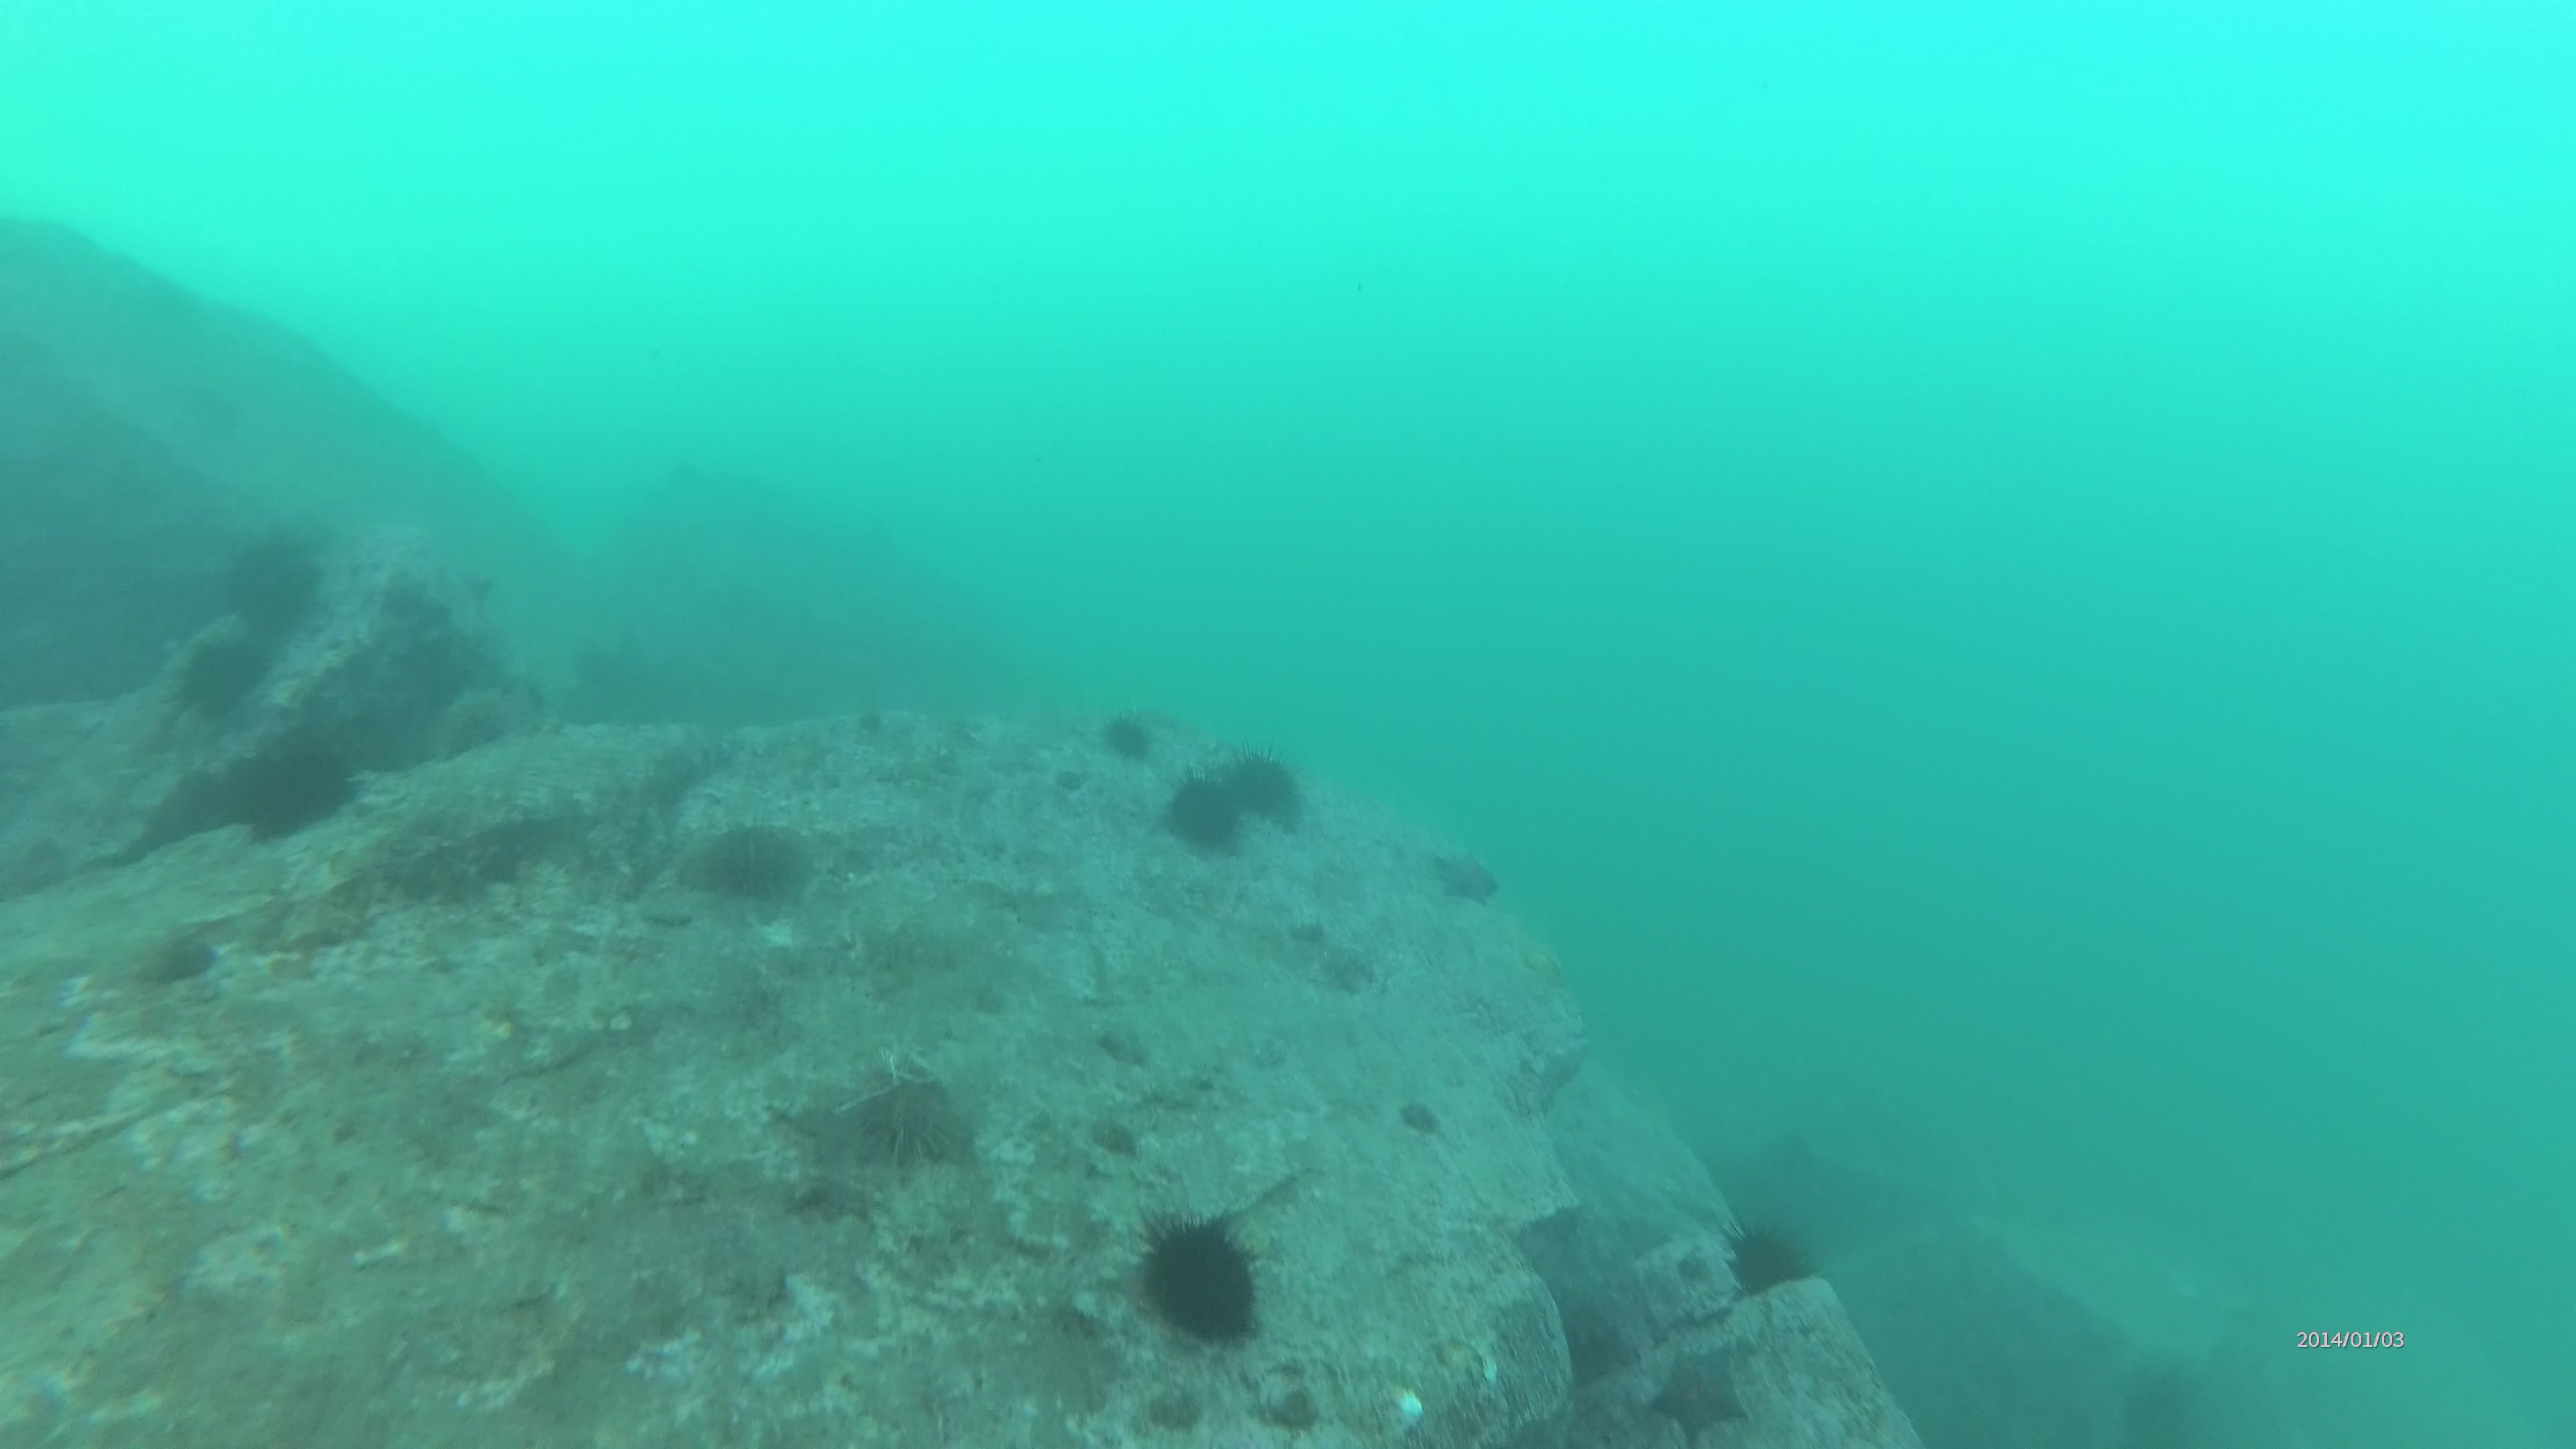echinus: (1109, 1196, 1277, 1359), (234, 741, 366, 844), (699, 812, 805, 922), (855, 1067, 966, 1164), (1219, 727, 1309, 837), (1152, 764, 1254, 860), (1723, 1215, 1824, 1307), (172, 630, 274, 720), (219, 531, 324, 612), (1102, 713, 1154, 761)
holothurian: (416, 683, 508, 770)
starfish: (1638, 1345, 1750, 1445), (1433, 842, 1504, 911)
